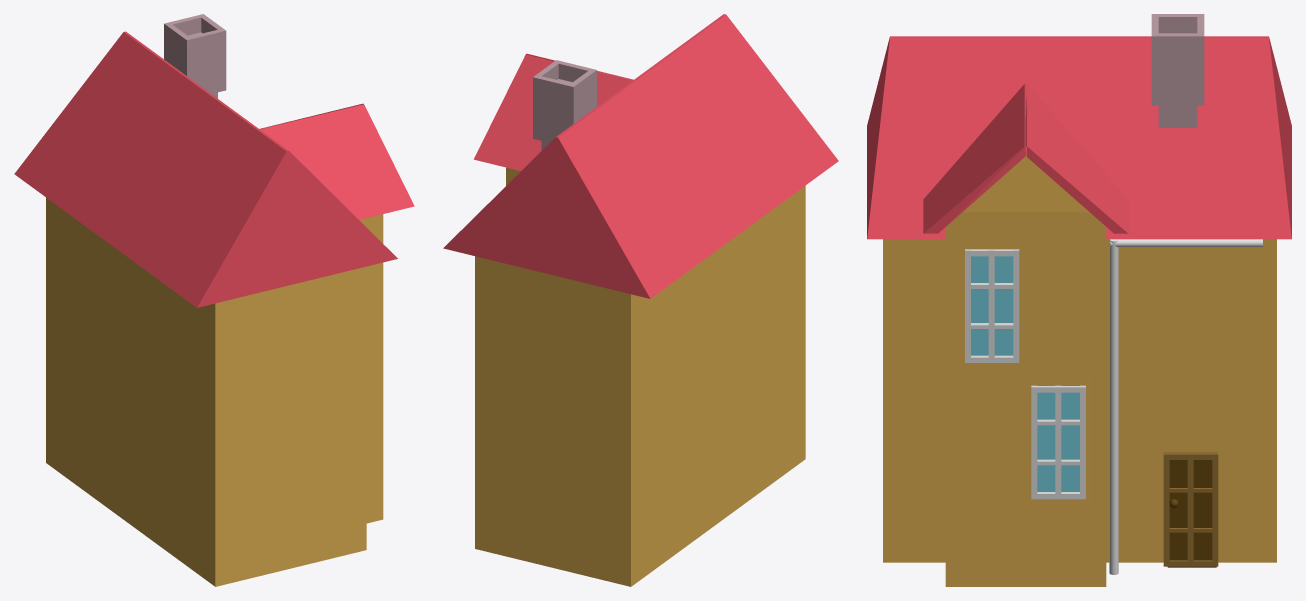
Rendered from housefixed3.fbx.
The picture shows the model from 3 angles, left to right: view 1: azimuth 30°, elevation 25°; view 2: azimuth 150°, elevation 25°; view 3: azimuth 270°, elevation 25°; orthographic projection. The views are drawn at different scales.
Visible parts, largest first — view 1: Cube, Cube.004, Cube.003, Cube.001, Cube.005; view 2: Cube, Cube.004, Cube.003, Cube.005; view 3: Cube, Cube.004, Cube.001, Cube.003, Cube.005, Cube.002, WindowPanel.002, WindowPanel.001, WindowPanel, SurfCylinder, Cube.010, Cube.007 (+2 smaller).
Boxes of the visible parts, <box> form: Cube: <box>46,197,366,586</box>; Cube.004: <box>14,31,397,307</box>; Cube.003: <box>259,103,414,219</box>; Cube.001: <box>359,214,383,523</box>; Cube.005: <box>164,14,226,98</box>; Cube: <box>475,186,805,586</box>; Cube.004: <box>443,14,838,298</box>; Cube.003: <box>473,53,633,170</box>; Cube.005: <box>533,60,596,150</box>; Cube: <box>883,239,1276,562</box>; Cube.004: <box>867,36,1291,239</box>; Cube.001: <box>945,212,1106,586</box>; Cube.003: <box>923,83,1128,233</box>; Cube.005: <box>1151,14,1204,127</box>; Cube.002: <box>963,156,1089,212</box>; WindowPanel.002: <box>1167,460,1216,567</box>; WindowPanel.001: <box>1037,392,1079,491</box>; WindowPanel: <box>971,256,1013,355</box>; SurfCylinder: <box>1109,239,1118,574</box>; Cube.010: <box>1031,385,1085,499</box>; Cube.007: <box>1163,452,1218,566</box>.
Size of the model in its own units: 1150 by 2016 by 1505.
